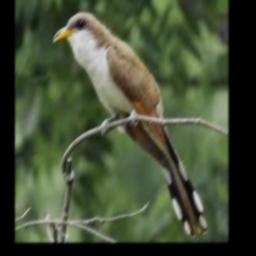Cuckoo: (54, 12, 208, 238)
